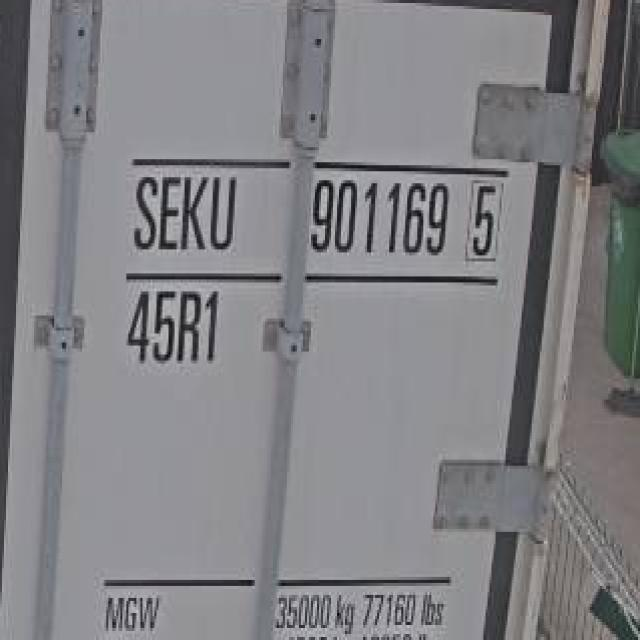dv: (463, 172, 507, 274)
owner: (128, 167, 241, 266)
serial: (308, 172, 453, 270)
size: (119, 280, 227, 370)
